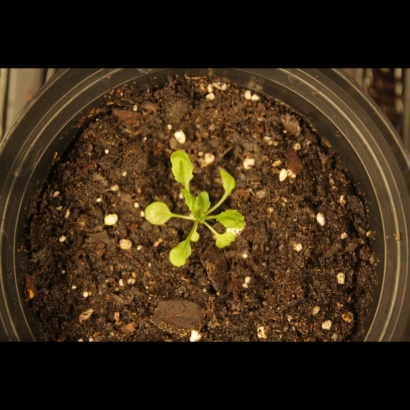leaf: (167, 147, 201, 188), (138, 198, 179, 230), (164, 240, 196, 272), (216, 164, 244, 200), (214, 209, 249, 234), (211, 228, 239, 258), (190, 189, 214, 220)
